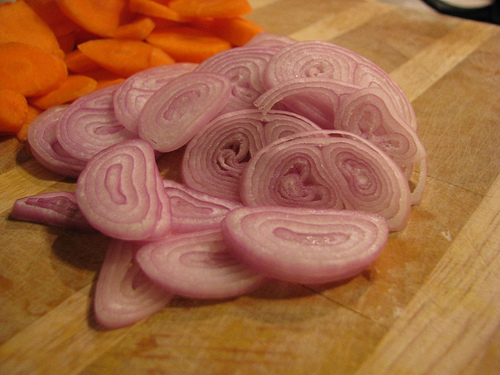onion: (217, 196, 418, 292), (244, 128, 416, 233), (76, 138, 161, 241)
